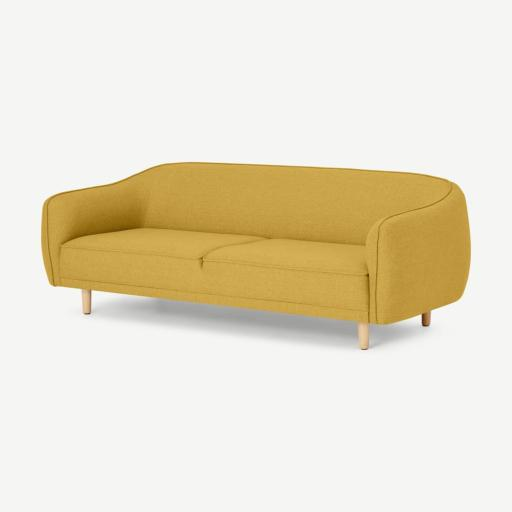back_cushion: (73, 162, 452, 245)
left_arm: (366, 184, 470, 325)
legs: (358, 322, 369, 350), (82, 290, 91, 314), (422, 316, 429, 326), (425, 312, 430, 321)
right_arm: (41, 171, 149, 286)
seat_cushion: (61, 229, 368, 312)
two-seater: (0, 0, 511, 512)
